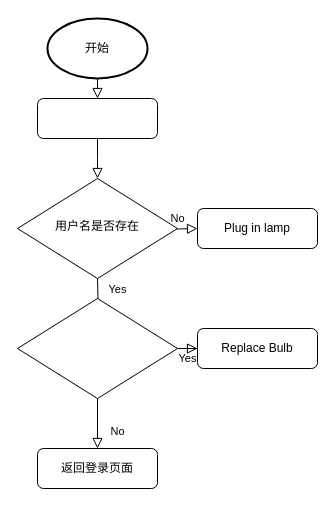
The diagram is 335 pixels wide and 506 high, and some of its shapes have lost their labels. Here are the shapes that lost their labels. From the top down, the box of each, then its label:
(36, 98, 158, 138): 登录
(16, 298, 178, 398): 用户名和密码是否匹配
